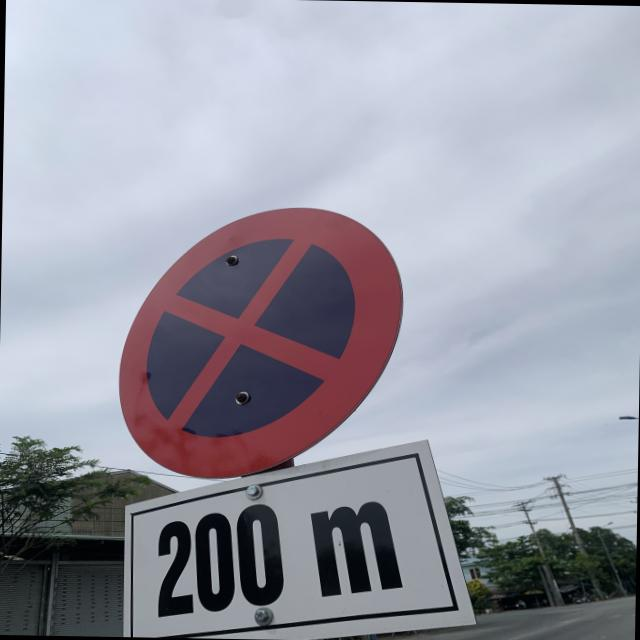Cam_Dung_Va_Dau_Xe: (116, 202, 404, 484)
